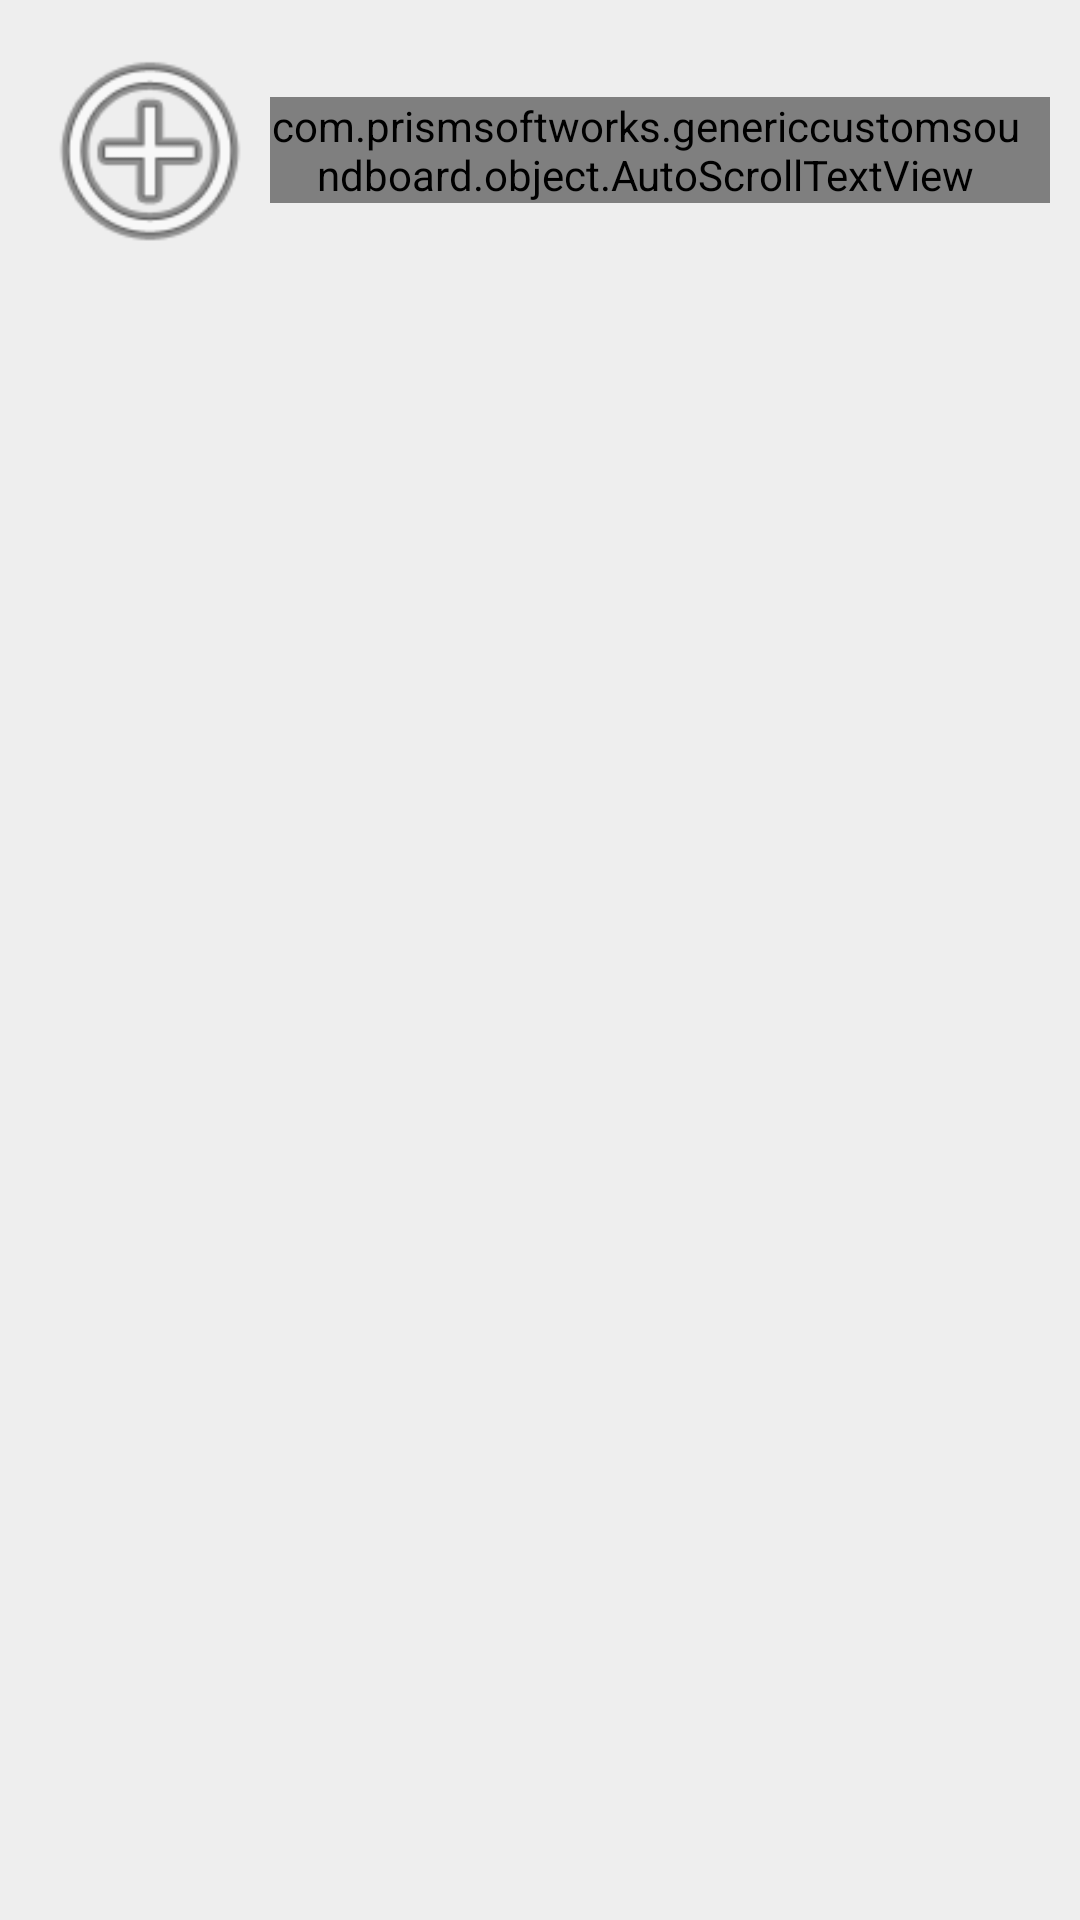

Locate icon controls on the screen. Image size 1080 × 1920, boxes as (x1, y1, x2, y2).
add: (61, 62, 239, 241)
